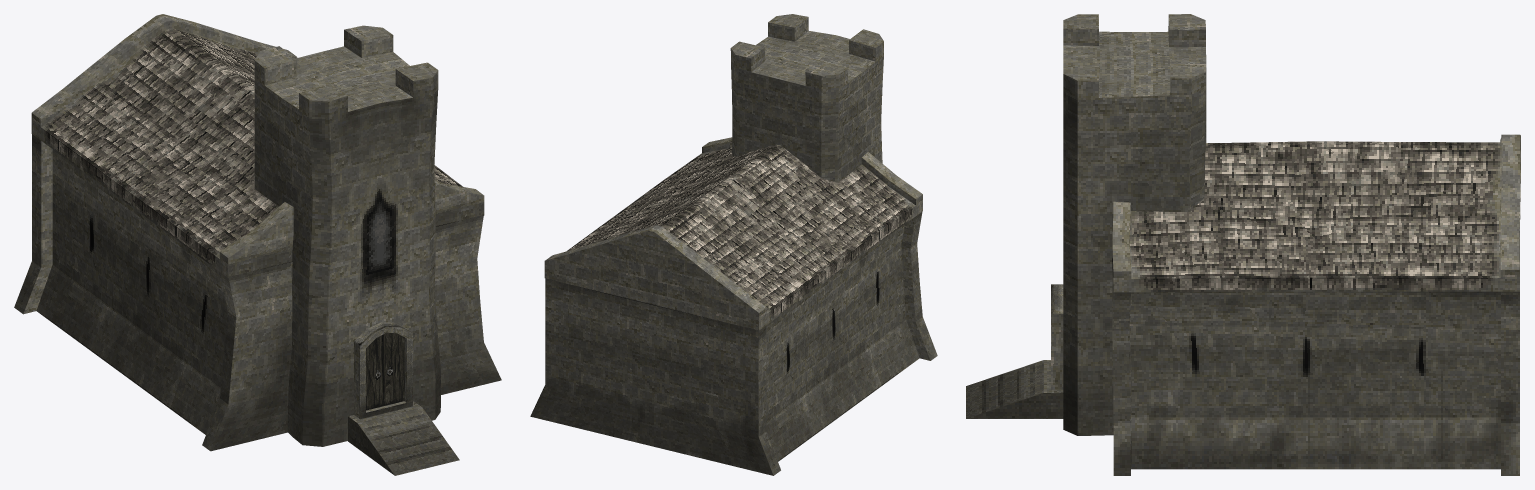
File: church.glb
The picture shows the model from 3 angles, left to right: view 1: azimuth 30°, elevation 25°; view 2: azimuth 150°, elevation 25°; view 3: azimuth 270°, elevation 25°; orthographic projection. The views are drawn at different scales.
Parts seen in each view (by area): view 1: church, church_door; view 2: church; view 3: church, church_door.
Part boxes in pixels (left/top/right/bottom): church: left=14, top=14, right=501, bottom=475; church_door: left=354, top=322, right=412, bottom=419; church: left=530, top=14, right=937, bottom=475; church: left=966, top=14, right=1520, bottom=475; church_door: left=1051, top=284, right=1063, bottom=389.
Size of the model in its own units: 11.98 by 13.6 by 19.11.
Materials: 1 (1 with a texture image).
